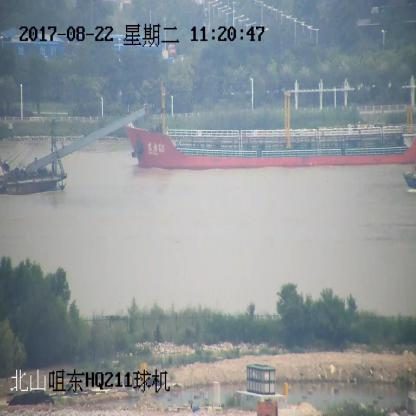Bulk Carrier: (126, 77, 416, 169)
